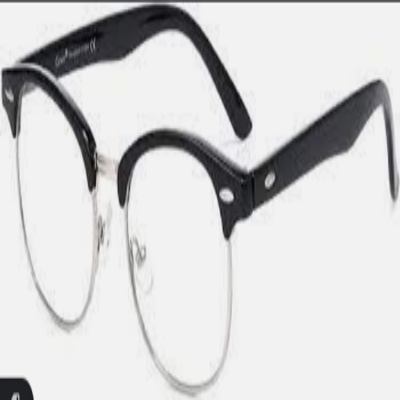glasses: (5, 4, 400, 397)
